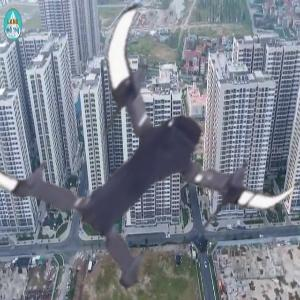drone: (16, 13, 300, 297)
